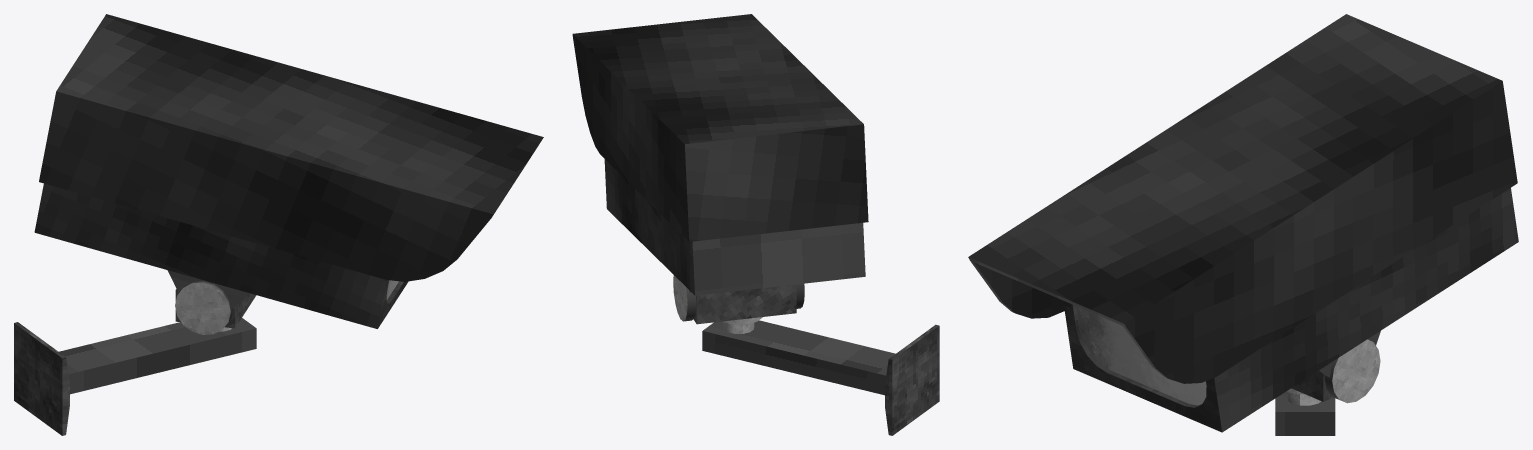
The model's file is Camera.glb.
The picture shows the model from 3 angles, left to right: view 1: azimuth 30°, elevation 25°; view 2: azimuth 150°, elevation 25°; view 3: azimuth 270°, elevation 25°; orthographic projection. The views are drawn at different scales.
Visible parts, largest first — view 1: Camera; view 2: Camera; view 3: Camera.
Part boxes in pixels (x1,y1,x2,y2): Camera: (14, 14, 543, 435); Camera: (572, 14, 939, 435); Camera: (968, 14, 1518, 435).
Size of the model in its own units: 1.64 by 1.12 by 1.56.
1 material, 1 textured.
